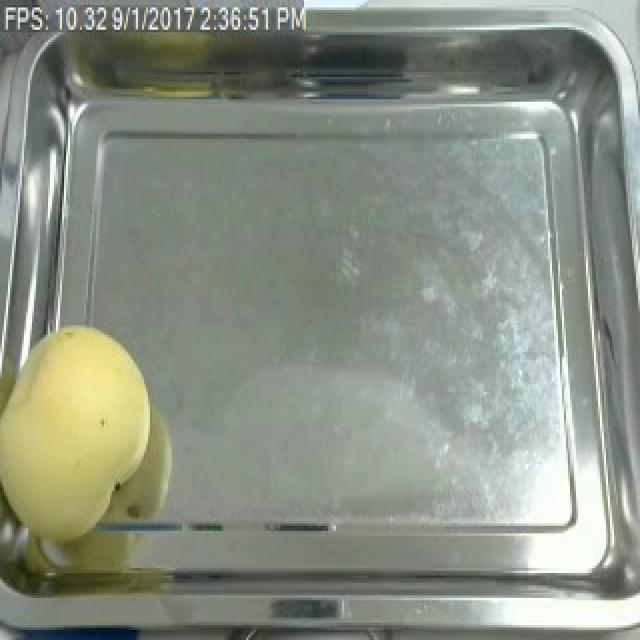Fruit: (0, 313, 162, 553)
